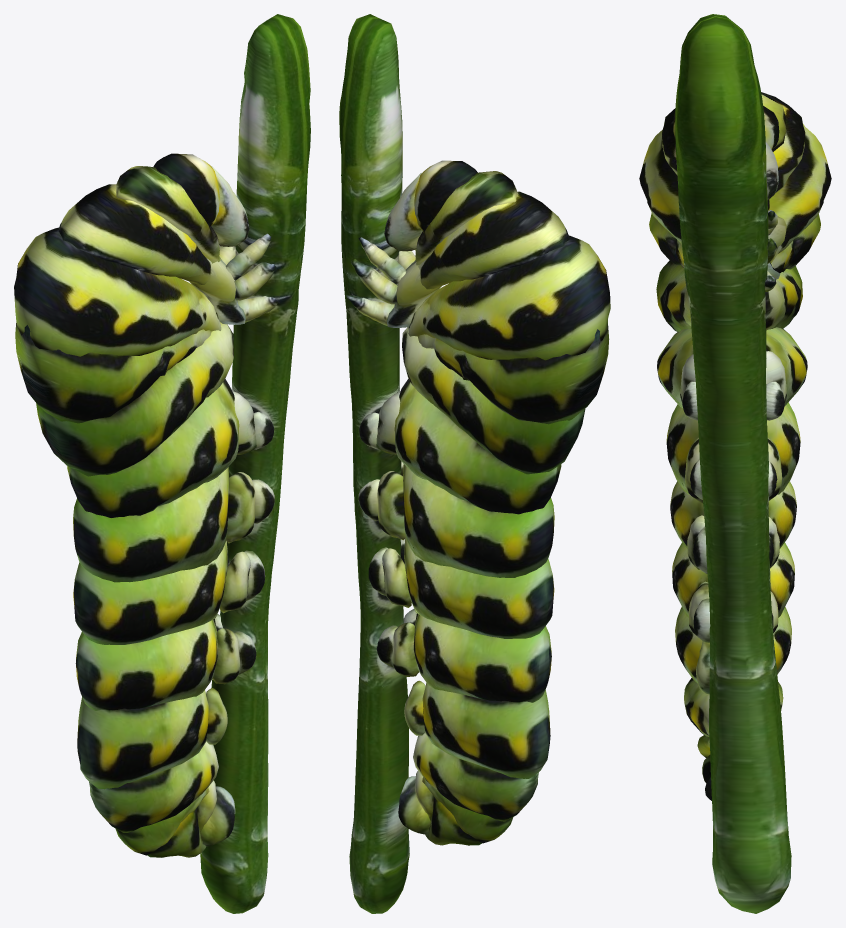
File: caterpillar.glb
3 renders of one model, left to right at view 1: azimuth 30°, elevation 25°; view 2: azimuth 150°, elevation 25°; view 3: azimuth 270°, elevation 25°, orthographic. The views are drawn at different scales.
Visible parts, largest first — view 1: Object_2; view 2: Object_2; view 3: Object_2.
Boxes of the visible parts, x1,y1,x2,y2 form: Object_2: (14,14,310,913); Object_2: (339,14,610,913); Object_2: (639,14,831,913).
Size of the model in its own units: 62.64 by 200 by 38.36.
1 material, 1 textured.
